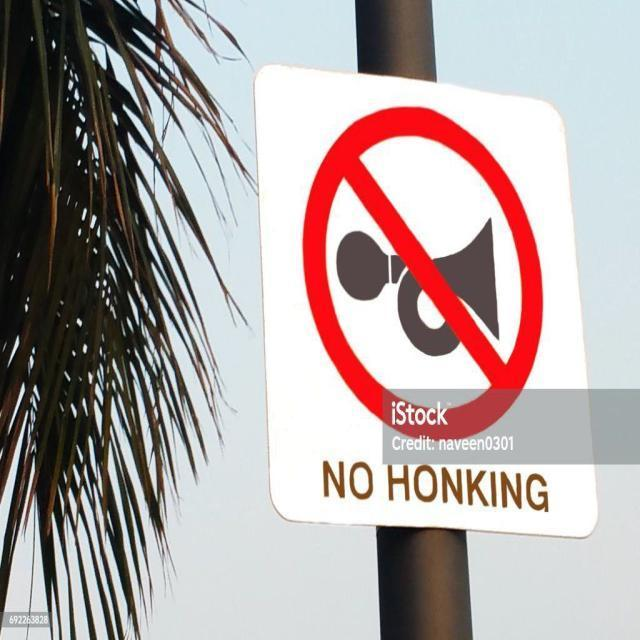horn prohibited: (299, 101, 548, 442)
